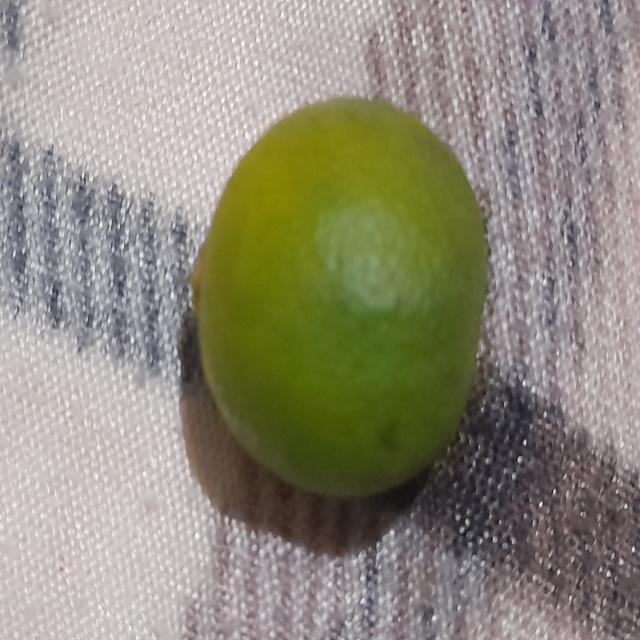heathy: (185, 82, 501, 511)
